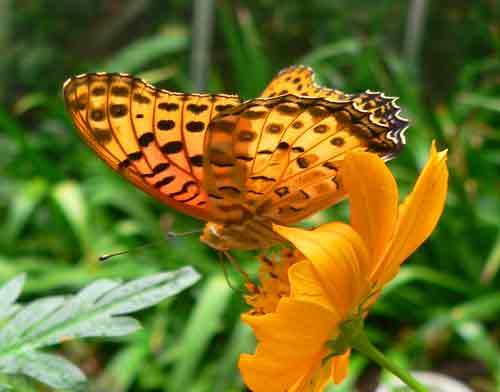Argyreus hyperbius: (54, 60, 416, 295)
butterfly: (56, 62, 418, 297)
